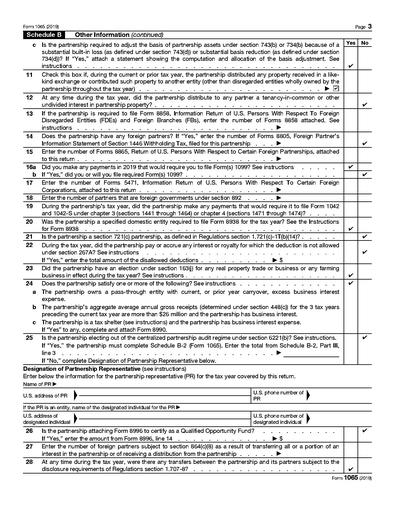checkmark: (348, 164, 354, 170), (362, 250, 368, 256), (362, 428, 368, 434), (348, 467, 354, 473), (348, 227, 354, 232), (363, 235, 368, 241), (348, 273, 354, 278), (362, 336, 368, 341), (349, 64, 354, 69), (362, 142, 368, 146), (348, 282, 354, 286), (363, 103, 368, 107), (363, 173, 368, 177)
filled checkbox: (333, 86, 340, 92)
